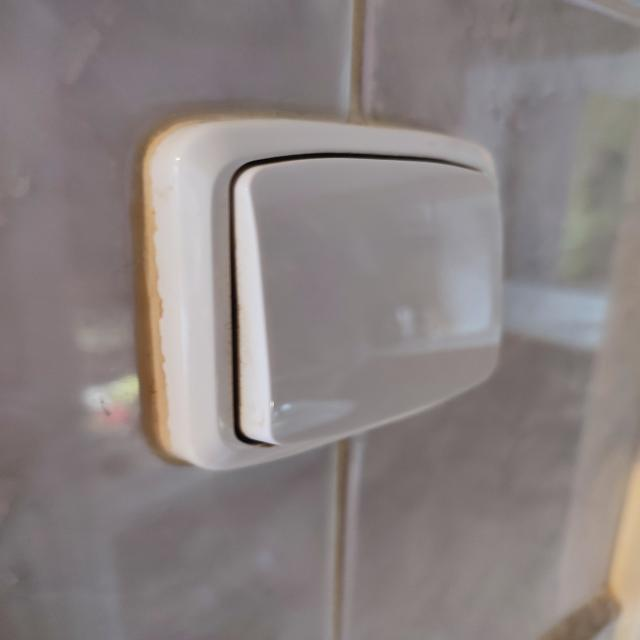house switch: (146, 119, 503, 471)
